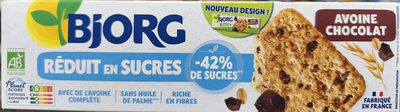Avoine chocolat: (20, 6, 380, 106)
